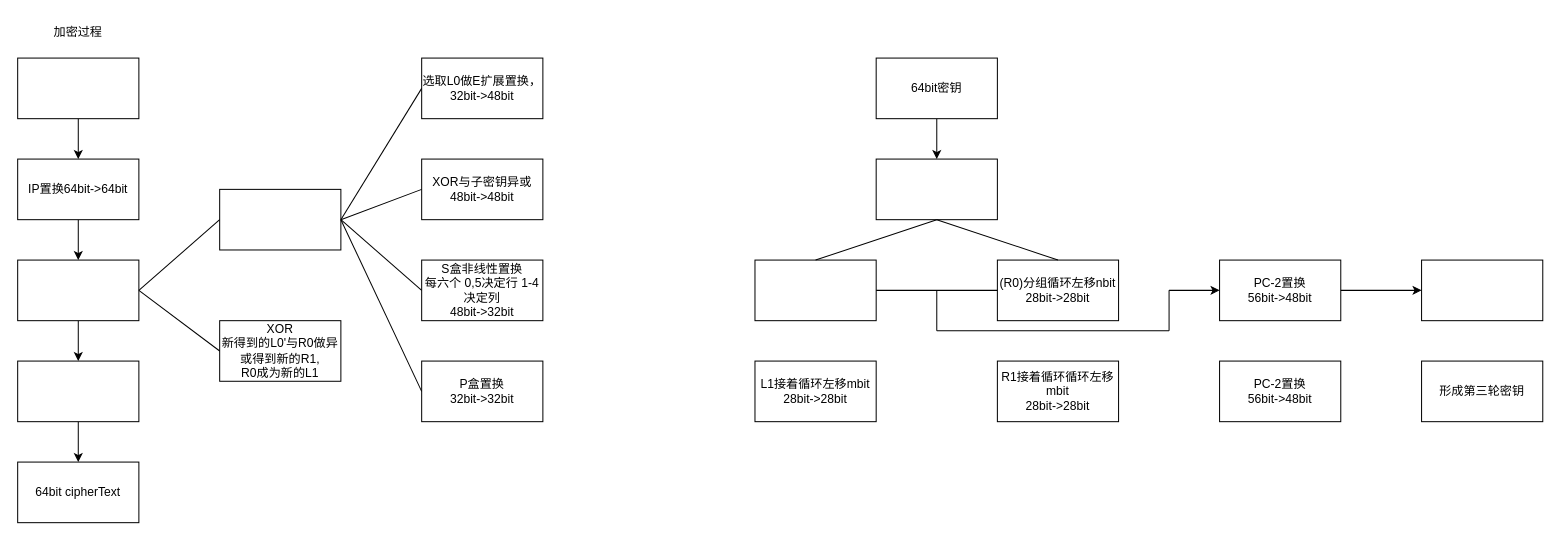
This 1560x540 diagram has some shape labels left out. The centre of each missing label's shape, as x and y in pixels:
"(L0)分组循环左移nbit 28bit->28bit" goes at point (815, 290).
"16轮的轮置换" goes at point (78, 290).
"64bit plainText" goes at point (78, 88).
"F函数" goes at point (280, 219).
"IPI置换64bit->64bit" goes at point (78, 391).
"PC-1置换 即将每8bit的最后1bit去掉 64bit->56bit" goes at point (936, 189).
"形成第二轮密钥" goes at point (1482, 290).
